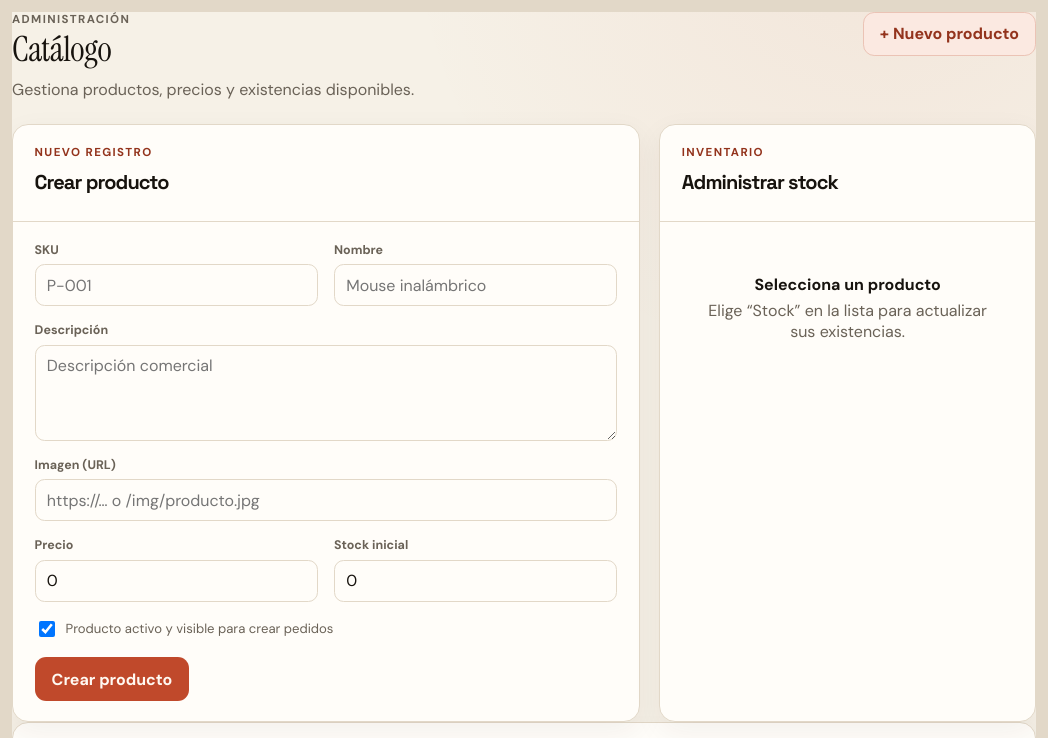
Test: CatalogPage › rechaza una imagen que no es https ni ruta del sitio
Type "P-010" into the field labelled "SKU".
click(176, 285); type("P-010")  # box [35,264,318,306]
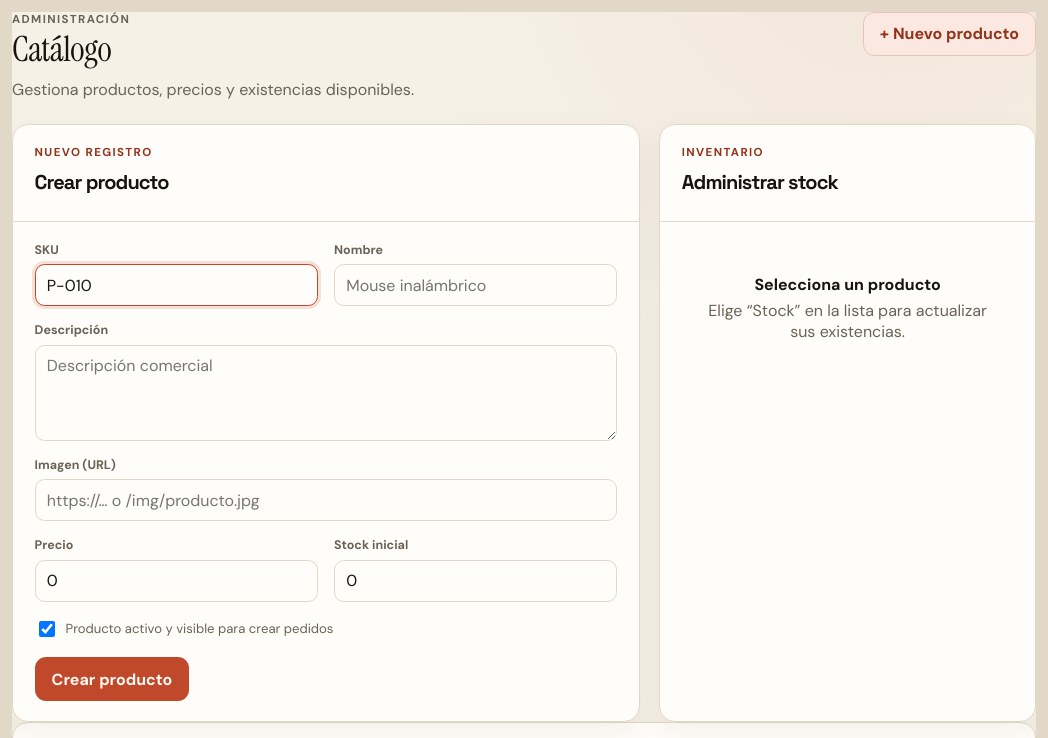
Type "Producto" into the field labelled "Nombre".
click(476, 285); type("Producto")  # box [334,264,617,306]
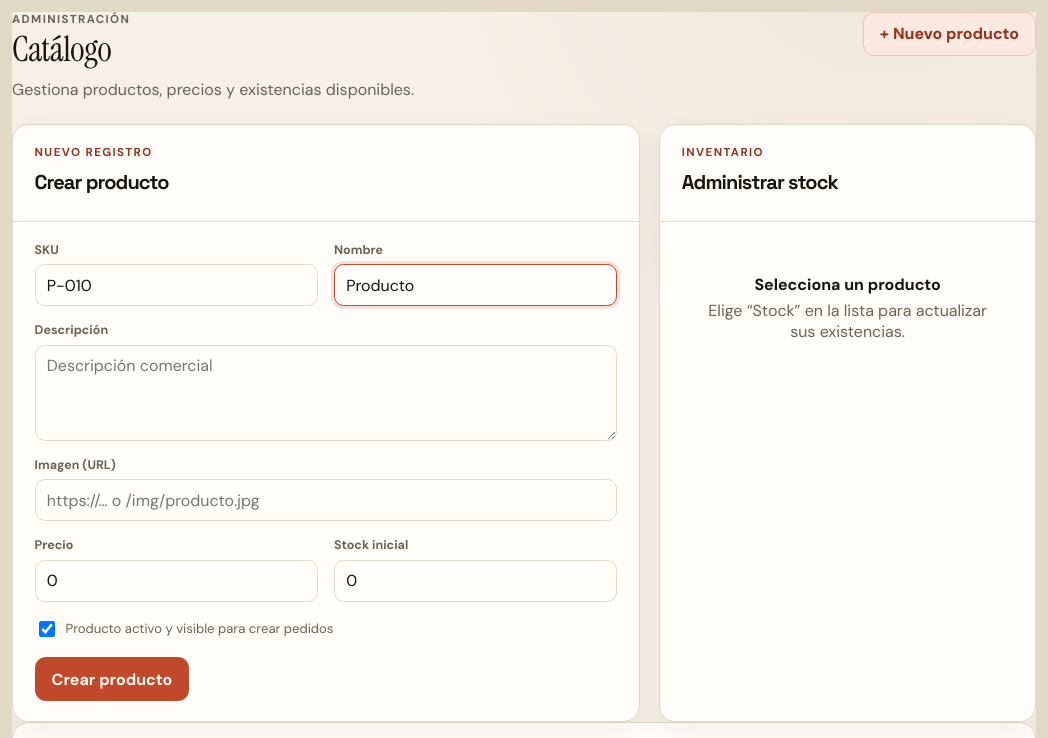
Type "javascript:alert(1)" into the field labelled "Imagen (URL)".
click(326, 500); type("javascript:alert(1)")  # box [35,479,617,521]
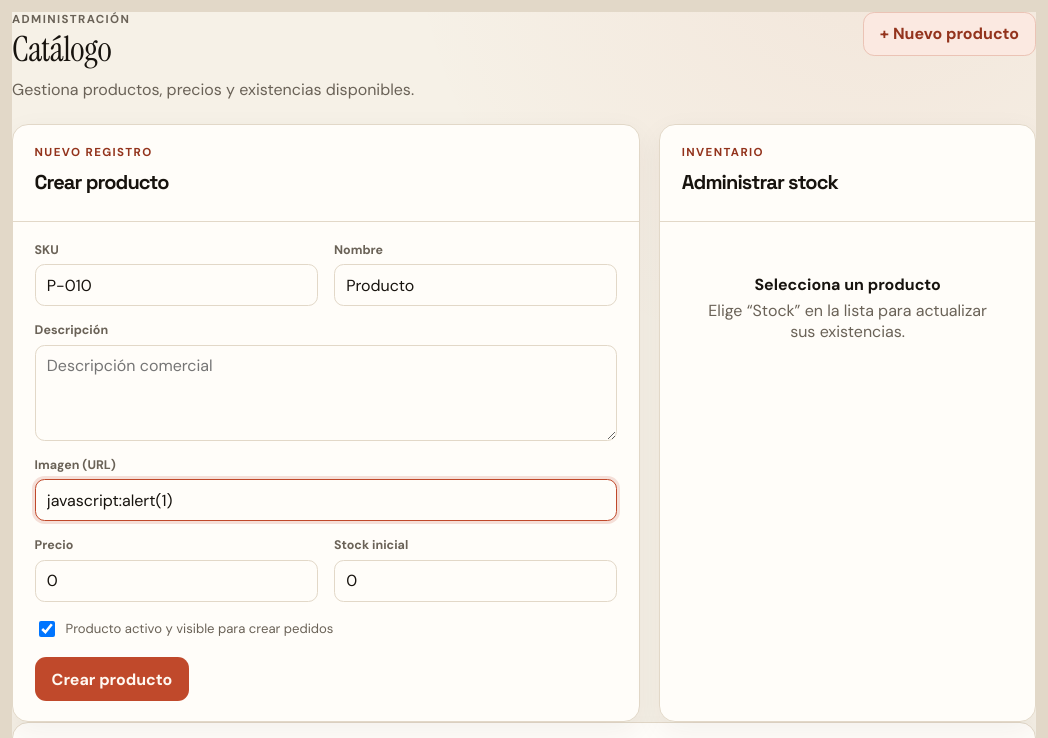
Click the button "Crear producto".
click(112, 679)  # box [35,657,189,701]
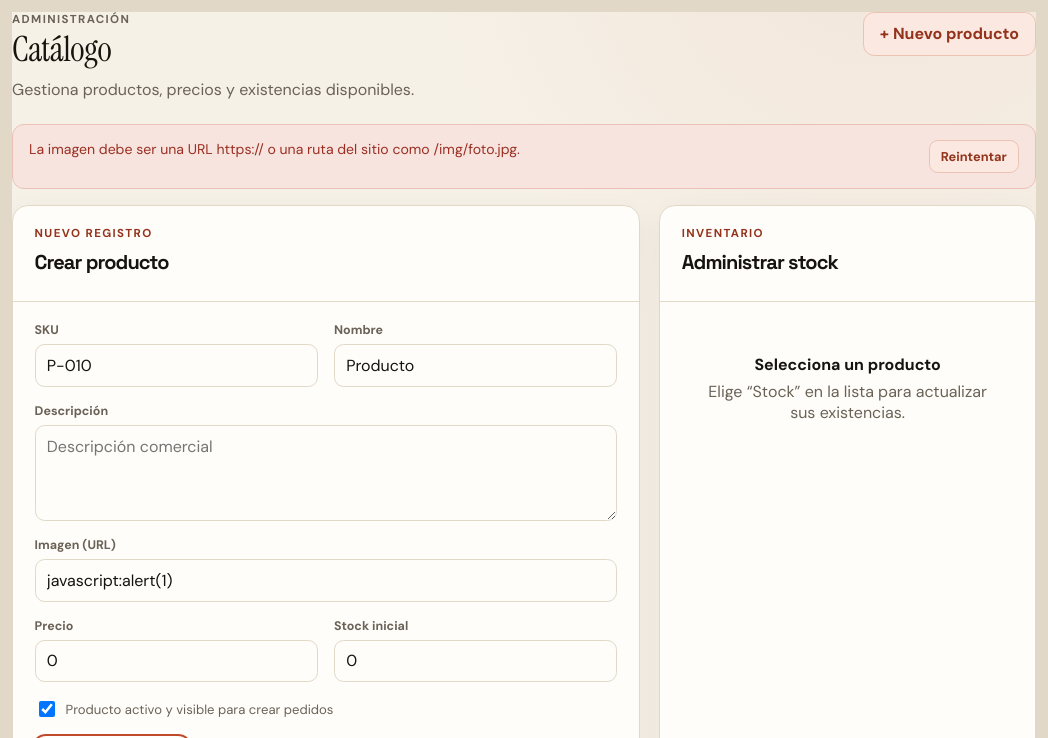
expect the text "La imagen debe ser una URL https:// o una ruta del sitio como /img/foto.jpg." is shown: met, box [29,140,520,158]
